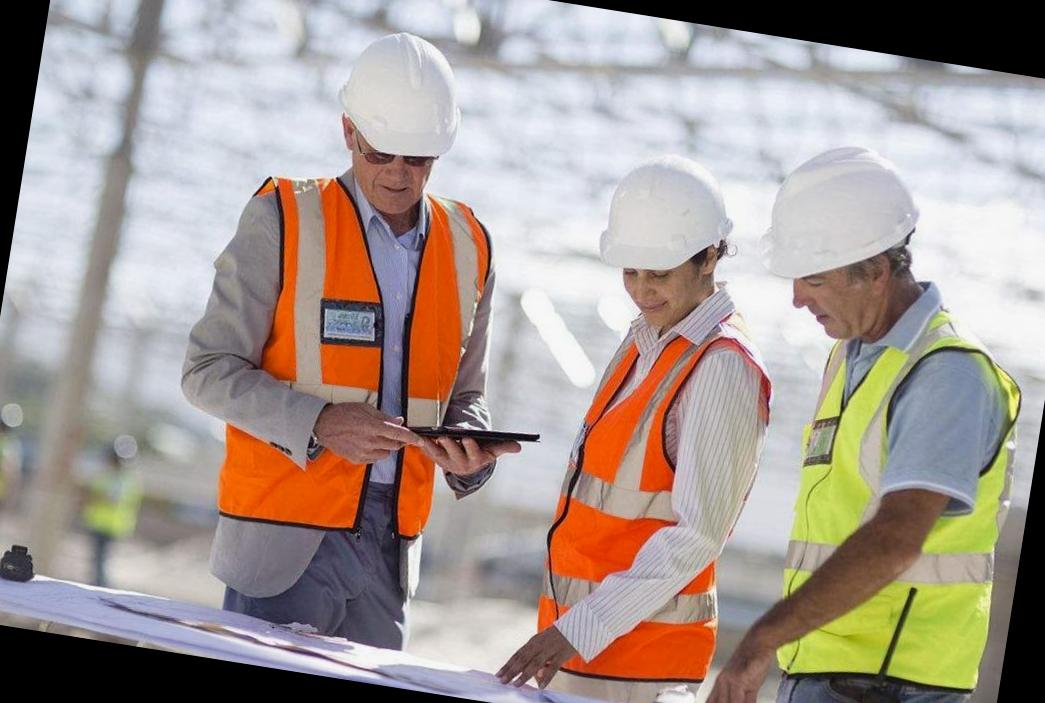helmet: (752, 119, 951, 324), (578, 128, 754, 300), (324, 24, 498, 190)
person: (126, 1, 561, 671), (448, 113, 802, 703), (692, 115, 1045, 703)
